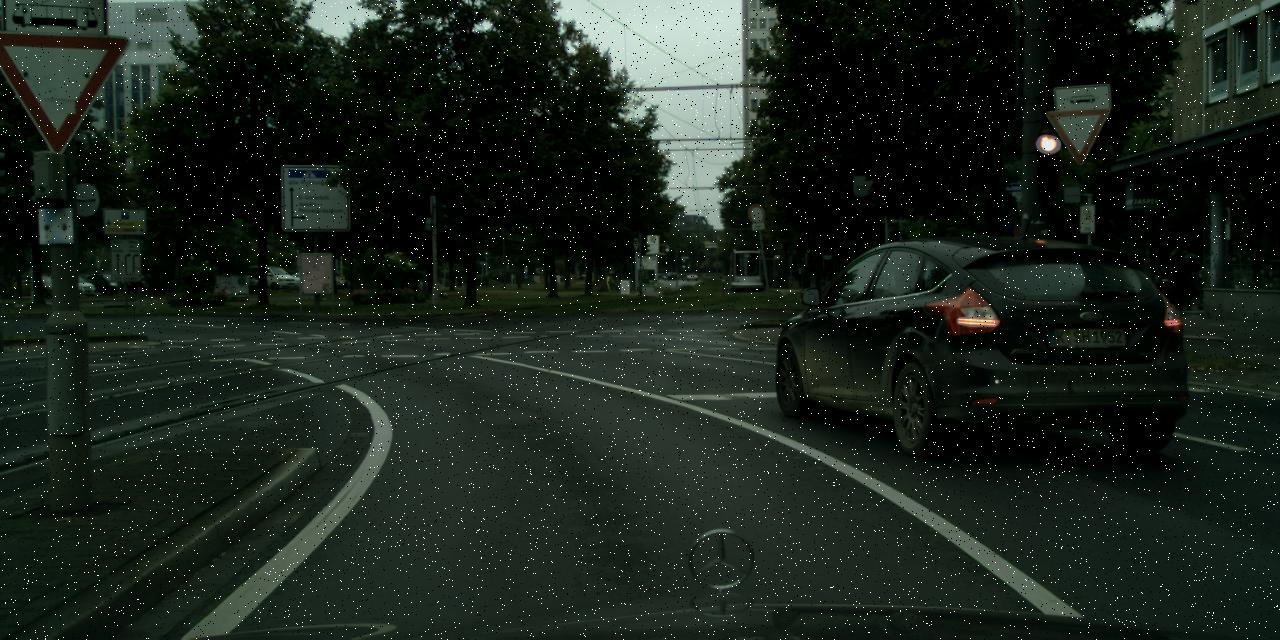ped: (1167, 244, 1203, 314)
